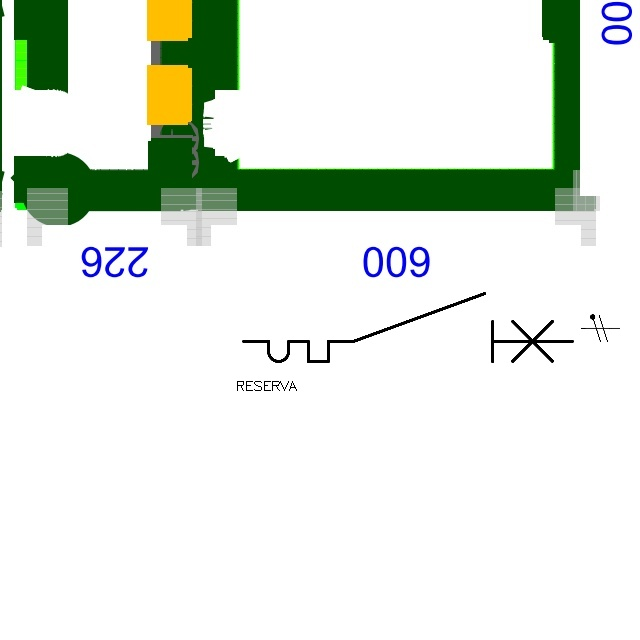interruptor_termomagnetico: (235, 285, 581, 370)
